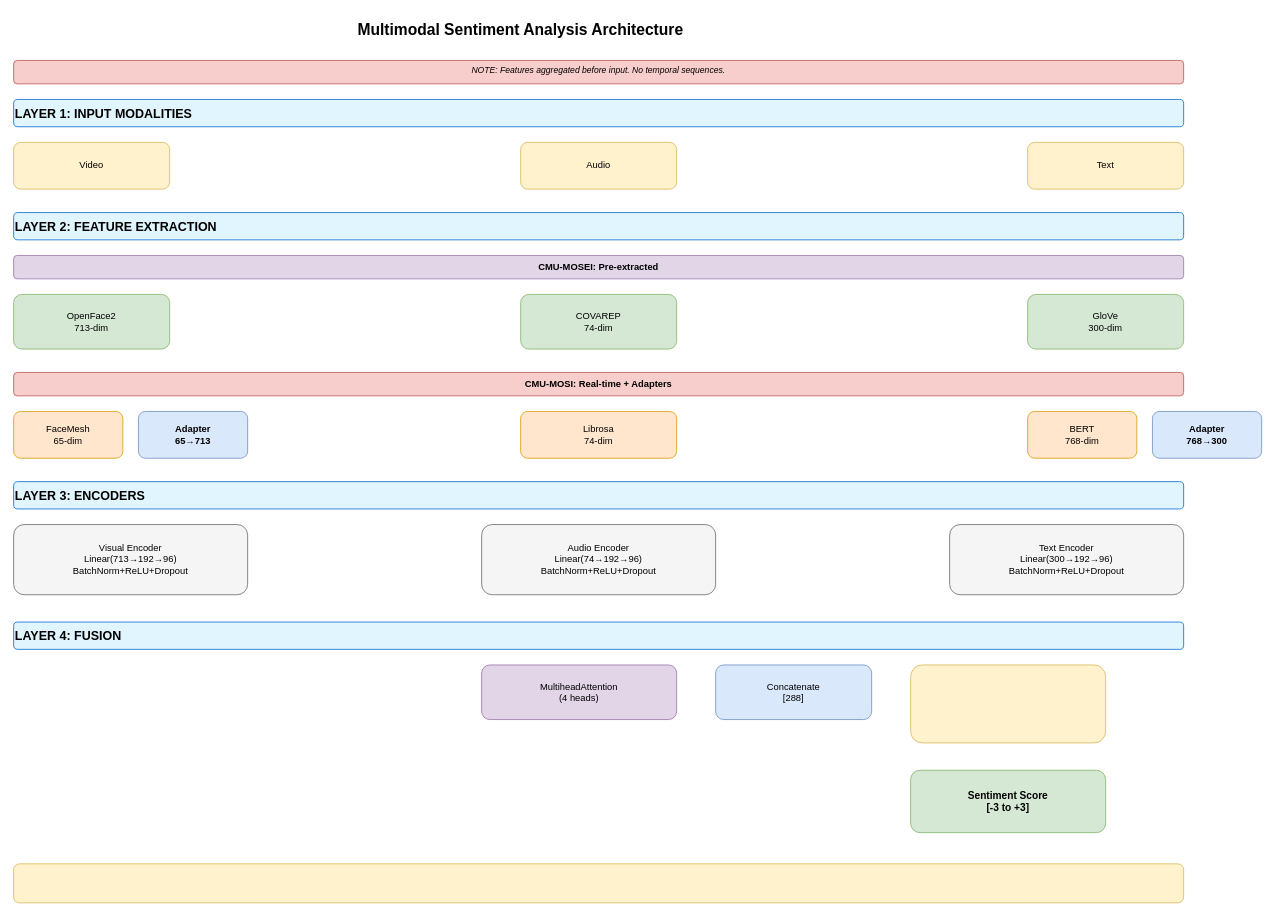
Image size: 1275x916. Some labels were removed from this diagram. Each missing label, with the centre of its shape:
Fusion MLP 288→192→96→1: point (1008, 703)
Loss: α(MSE+MAE)/2 + β(1-Corr)² α=0.3, β=0.7: point (598, 883)
